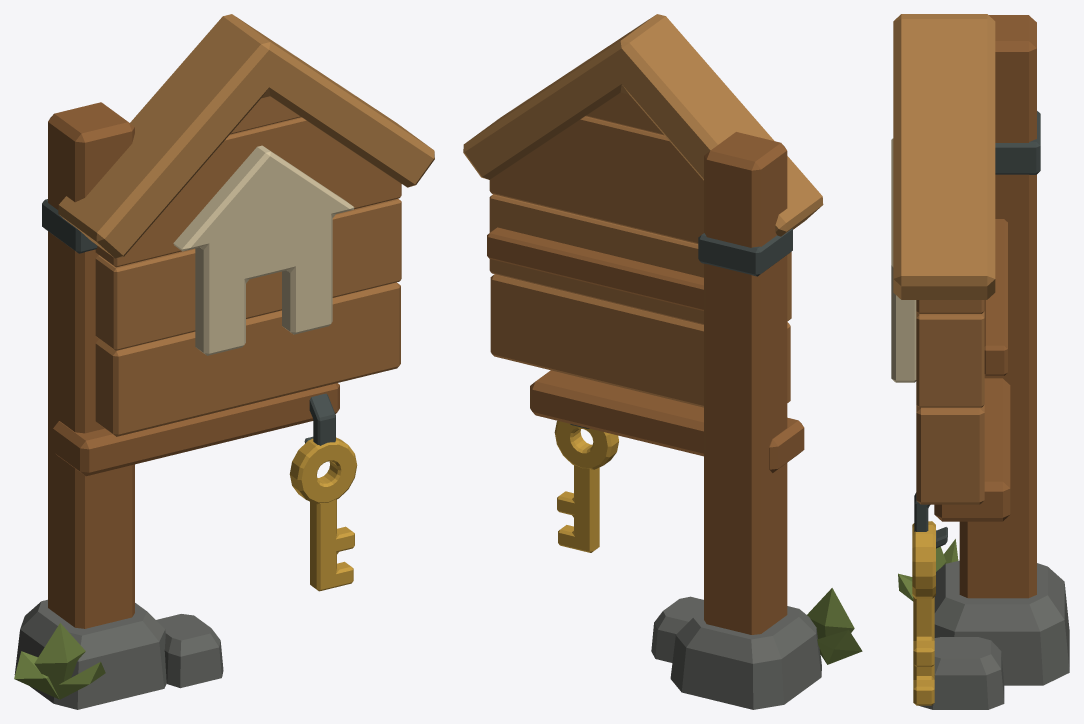
The model's file is Ville_House_Sign.glb.
The picture shows the model from 3 angles, left to right: view 1: azimuth 30°, elevation 25°; view 2: azimuth 150°, elevation 25°; view 3: azimuth 270°, elevation 25°; orthographic projection. The views are drawn at different scales.
Visible parts, largest first — view 1: Ville_House_Sign; view 2: Ville_House_Sign; view 3: Ville_House_Sign.
Part boxes in pixels (x1,y1,x2,y2): Ville_House_Sign: (14, 14, 434, 709); Ville_House_Sign: (463, 14, 862, 709); Ville_House_Sign: (891, 14, 1069, 709).
Bounding box in the file's own units: 1.71 × 2.57 × 0.587.
